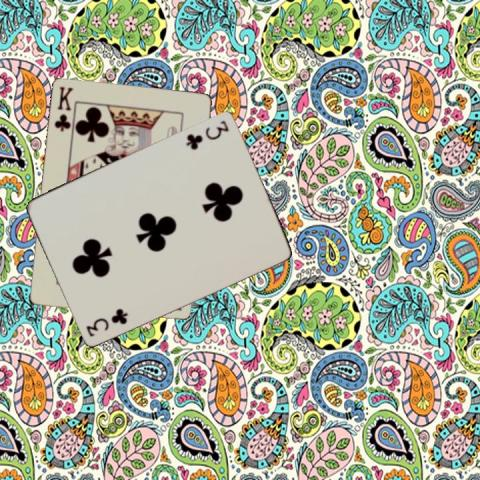3c: (183, 117, 231, 151), (84, 305, 130, 338)
Kc: (51, 84, 74, 133)
